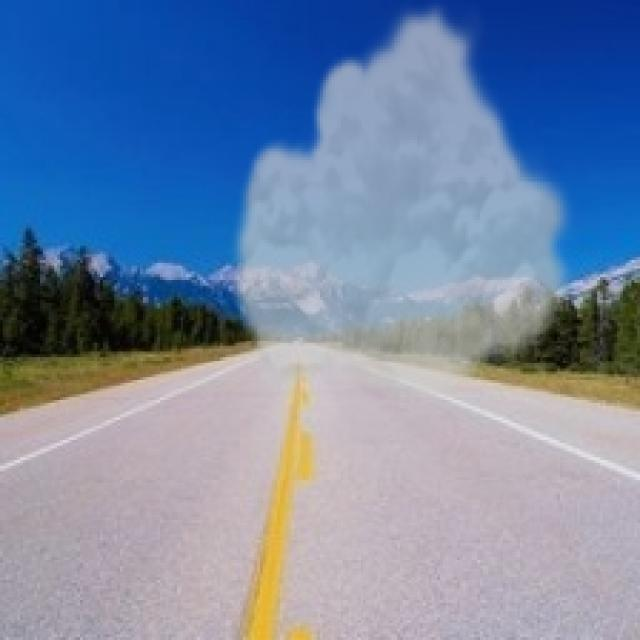Smoke: (225, 0, 580, 403)
